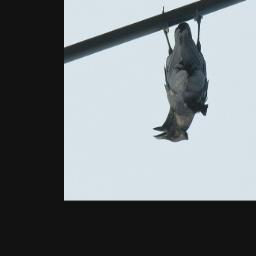Crow: (152, 4, 209, 147)
